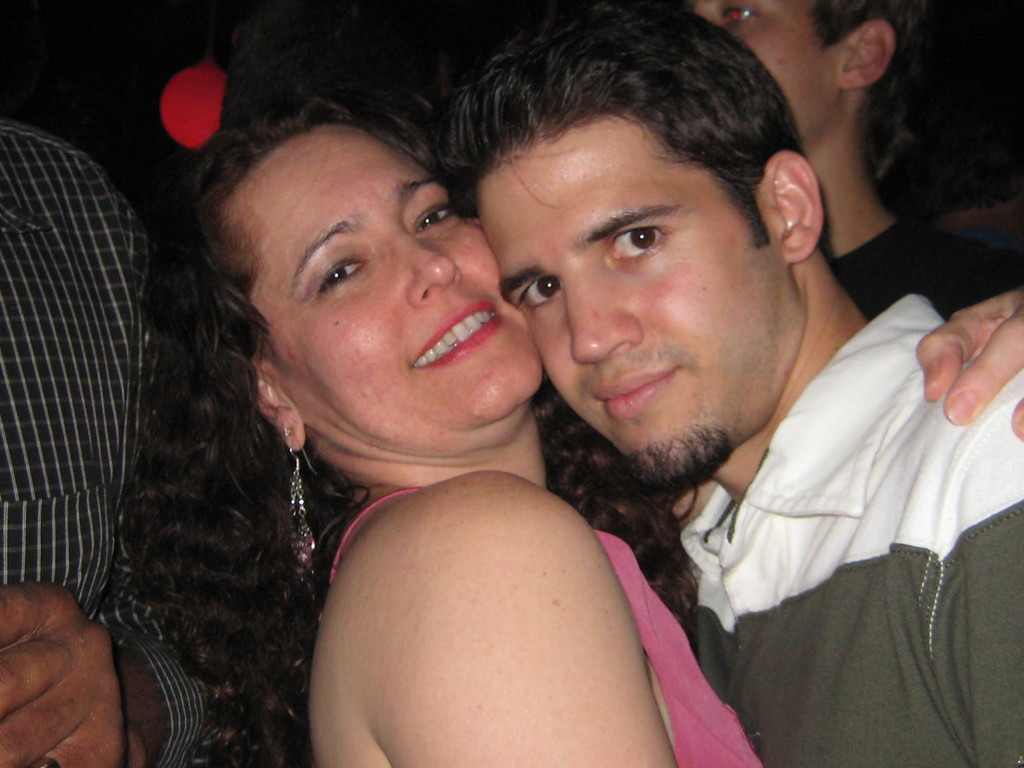Person: (125, 86, 766, 768), (683, 0, 1024, 321)
